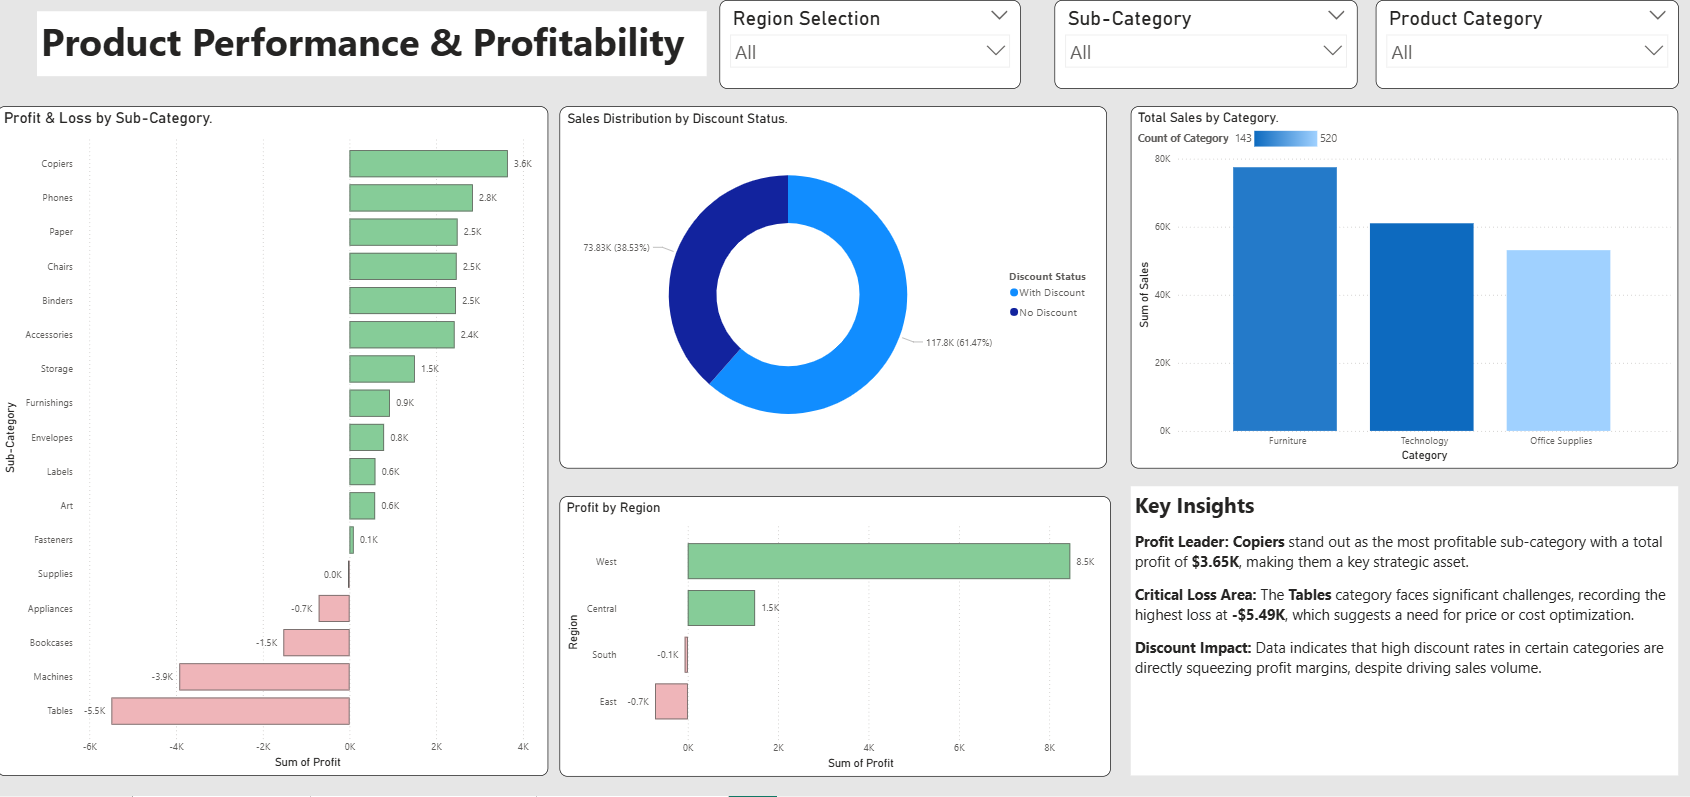

This screenshot's page, from the dashboard's own definition file:
{"tool":"powerbi","page":{"name":"Product & Profit Analytics","canvas":[2150,1016],"ordinal":1},"visuals":[{"type":"barChart","title":"Profit & Loss by Sub-Category.","fields":{"Category":["Sample - Superstore.Sub-Category"],"Y":["Sum(Sample - Superstore.Profit)"]},"box":[0,135,700,850],"z":0},{"type":"columnChart","title":"Total Sales by Category.","fields":{"Category":["Sample - Superstore.Category"],"Y":["Sum(Sample - Superstore.Sales)"]},"box":[1440,135,695,460],"z":1000},{"type":"barChart","title":" Profit by Region","fields":{"Category":["Sample - Superstore.Region"],"Y":["Sum(Sample - Superstore.Profit)"]},"box":[714,630,700,356],"z":2000},{"type":"slicer","fields":{"Values":["Sample - Superstore.Sub-Category"]},"box":[1342.5,0,385,112.5],"z":3000},{"type":"slicer","fields":{"Values":["Sample - Superstore.Category"]},"box":[1750,0,385,112.5],"z":4000},{"type":"slicer","fields":{"Values":["Sample - Superstore.Region"]},"box":[917.5,0,382.5,112.5],"z":5000},{"type":"textbox","box":[50,15,850,82.5],"z":6000},{"type":"donutChart","title":"Sales Distribution by Discount Status.","fields":{"Category":["Sample - Superstore.Discount Status"],"Y":["Sum(Sample - Superstore.Sales)"]},"box":[715,135,695,460],"z":8000},{"type":"textbox","box":[1440,617.5,695,367.5],"z":9000}]}

Visuals, with their boxes in screenshot pixels (x1, y1, x2, y2), scaled from the page's 2150x1016 canvas onto the 1690x797 screenshot:
"Profit & Loss by Sub-Category." barChart: l=0, t=106, r=550, b=773
"Total Sales by Category." columnChart: l=1132, t=106, r=1678, b=467
" Profit by Region" barChart: l=561, t=494, r=1111, b=773
slicer - Sample - Superstore.Sub-Category: l=1055, t=0, r=1358, b=88
slicer - Sample - Superstore.Category: l=1376, t=0, r=1678, b=88
slicer - Sample - Superstore.Region: l=721, t=0, r=1022, b=88
textbox: l=39, t=12, r=707, b=76
"Sales Distribution by Discount Status." donutChart: l=562, t=106, r=1108, b=467
textbox: l=1132, t=484, r=1678, b=773
